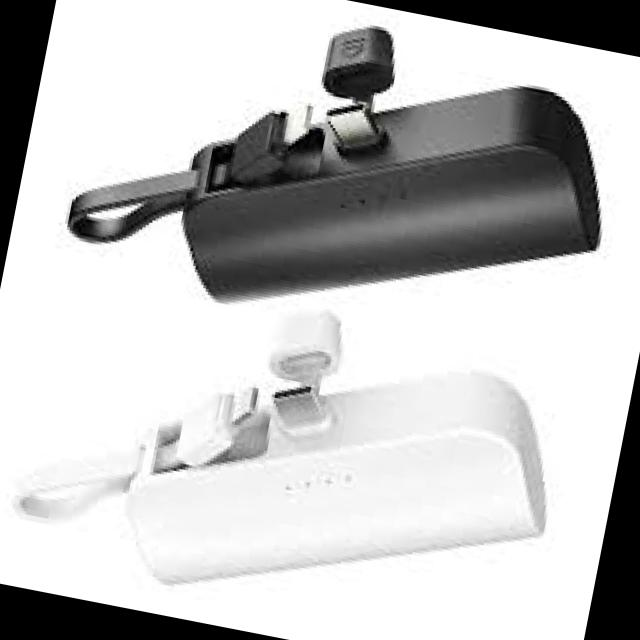power_bank: (158, 0, 633, 377), (101, 302, 571, 640)
